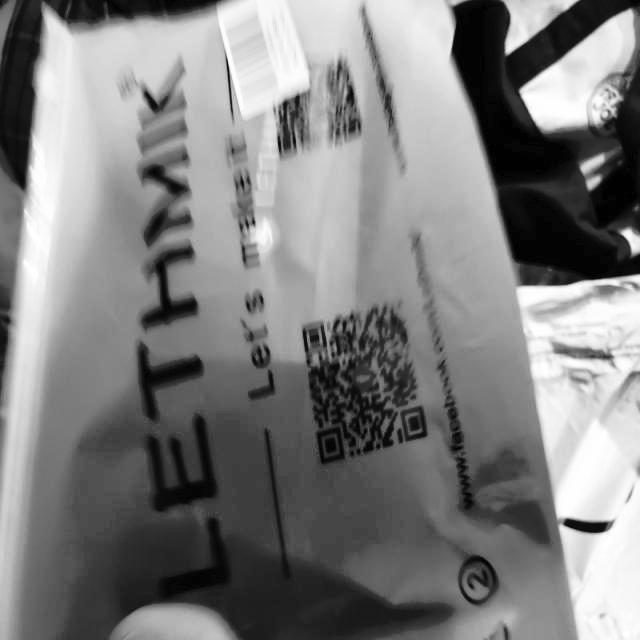qr_code: (289, 281, 438, 480), (264, 34, 371, 175)
